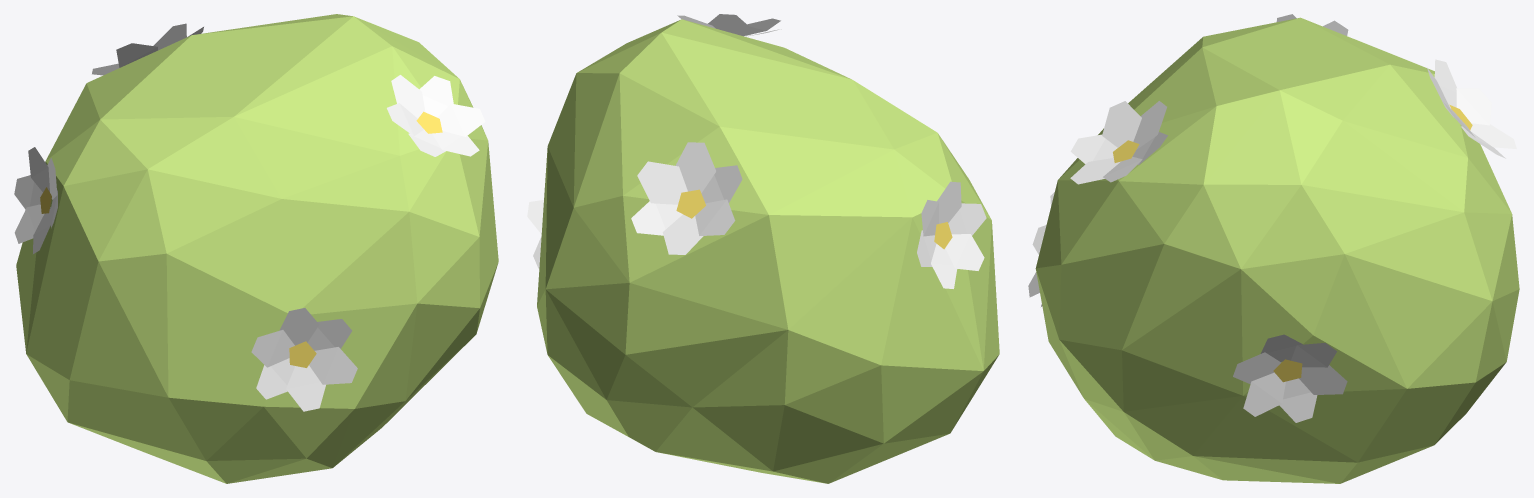
Rendered from FlowerBush_a_m_07.fbx.
The picture shows the model from 3 angles, left to right: view 1: azimuth 30°, elevation 25°; view 2: azimuth 150°, elevation 25°; view 3: azimuth 270°, elevation 25°; orthographic projection. The views are drawn at different scales.
Visible parts, largest first — view 1: FlowerBush_a_m_07_LOD0; view 2: FlowerBush_a_m_07_LOD0; view 3: FlowerBush_a_m_07_LOD0.
Part boxes in pixels (x1,y1,x2,y2): FlowerBush_a_m_07_LOD0: (14, 14, 498, 483); FlowerBush_a_m_07_LOD0: (527, 14, 999, 483); FlowerBush_a_m_07_LOD0: (1028, 14, 1519, 483).
Size of what is drawn, in the model's own units: 162 by 142 by 146.
